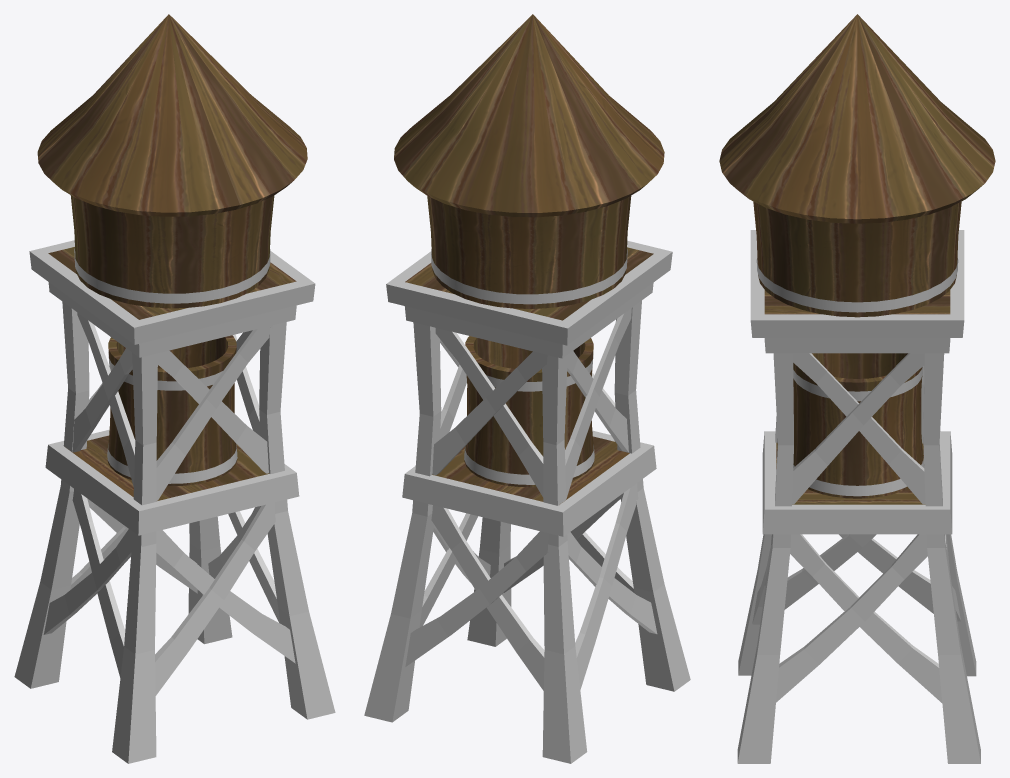
File: WaterTower.fbx
3 renders of one model, left to right at view 1: azimuth 30°, elevation 25°; view 2: azimuth 150°, elevation 25°; view 3: azimuth 270°, elevation 25°, orthographic. The views are drawn at different scales.
Parts seen in each view (by area): view 1: Cylinder.011, Cube.002, Cube.072, Cube.067, Cube.070, Cylinder.012, Cube.073, Cube.082, Cube.088, Cube.083, Cube.089, Cube.080 (+9 smaller); view 2: Cylinder.011, Cube.002, Cube.073, Cube.067, Cube.064, Cylinder.012, Cube.072, Cube.078, Cube.079, Cube.080, Cube.084, Cube.085 (+8 smaller); view 3: Cylinder.011, Cylinder.012, Cube.002, Cube.067, Cube.064, Cube.070, Cube.076, Cube.077, Cube.074, Cube.075, Cube.081, Cube.072 (+2 smaller).
Boxes of the visible parts, x1,y1,x2,y2 form: Cylinder.011: (37, 14, 307, 308); Cube.002: (29, 240, 315, 357); Cube.072: (112, 352, 157, 763); Cube.067: (45, 429, 299, 535); Cube.070: (259, 322, 335, 719); Cylinder.012: (107, 335, 237, 485); Cube.073: (14, 301, 89, 688); Cube.082: (155, 502, 275, 695); Cube.088: (156, 325, 272, 500); Cube.083: (156, 530, 295, 663); Cube.089: (158, 350, 268, 473); Cube.080: (43, 529, 134, 634); Cylinder.011: (394, 14, 664, 308); Cube.002: (386, 240, 672, 358); Cube.073: (542, 355, 587, 763); Cube.067: (402, 430, 656, 536); Cube.064: (364, 322, 441, 722); Cylinder.012: (464, 336, 594, 487); Cube.072: (614, 300, 690, 691); Cube.078: (405, 531, 548, 666); Cube.079: (431, 505, 544, 690); Cube.080: (575, 483, 638, 689); Cube.084: (432, 351, 547, 475); Cube.085: (435, 327, 543, 497); Cylinder.011: (719, 14, 995, 317); Cylinder.012: (793, 353, 924, 498); Cube.002: (750, 230, 964, 353); Cube.067: (762, 431, 952, 534); Cube.064: (923, 353, 980, 763); Cube.070: (737, 353, 793, 763); Cube.076: (776, 534, 927, 702); Cube.077: (790, 534, 942, 702); Cube.074: (792, 353, 924, 504); Cube.075: (793, 353, 925, 504); Cube.081: (784, 534, 876, 609); Cube.072: (738, 416, 777, 675).
Bounding box in the file's own units: 360 × 1003 × 360.
